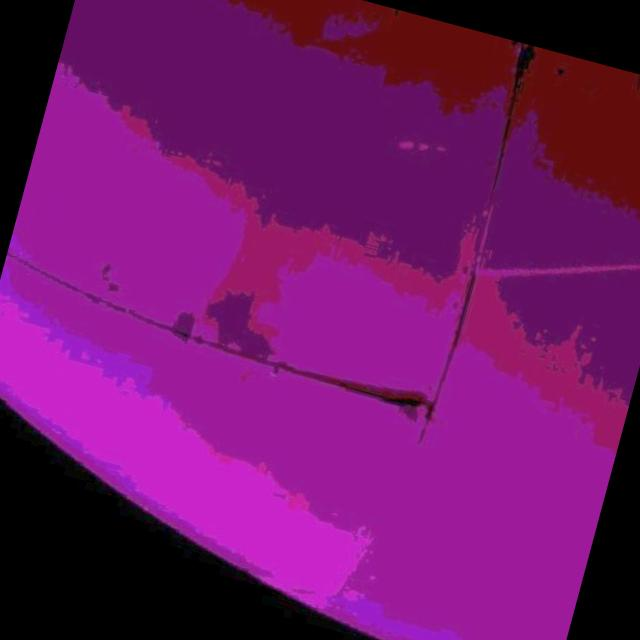crack: (275, 360, 431, 419)
